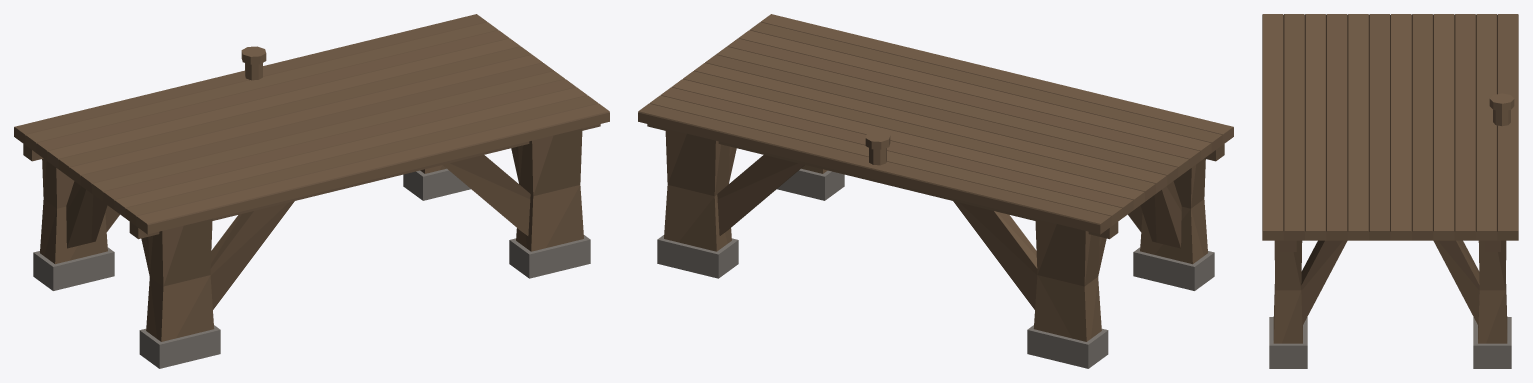
File: quay-segment.glb
3 renders of one model, left to right at view 1: azimuth 30°, elevation 25°; view 2: azimuth 150°, elevation 25°; view 3: azimuth 270°, elevation 25°, orthographic. The views are drawn at different scales.
Parts seen in each view (by area): view 1: deck, structure; view 2: deck, structure; view 3: deck, structure.
Boxes of the visible parts, x1=… form: deck: x1=14, y1=14, x2=609, y2=234; structure: x1=23, y1=46, x2=600, y2=368; deck: x1=638, y1=14, x2=1233, y2=234; structure: x1=647, y1=124, x2=1224, y2=368; deck: x1=1262, y1=14, x2=1518, y2=240; structure: x1=1269, y1=93, x2=1514, y2=368.
Bounding box in the file's own units: 8 × 2.91 × 4.
